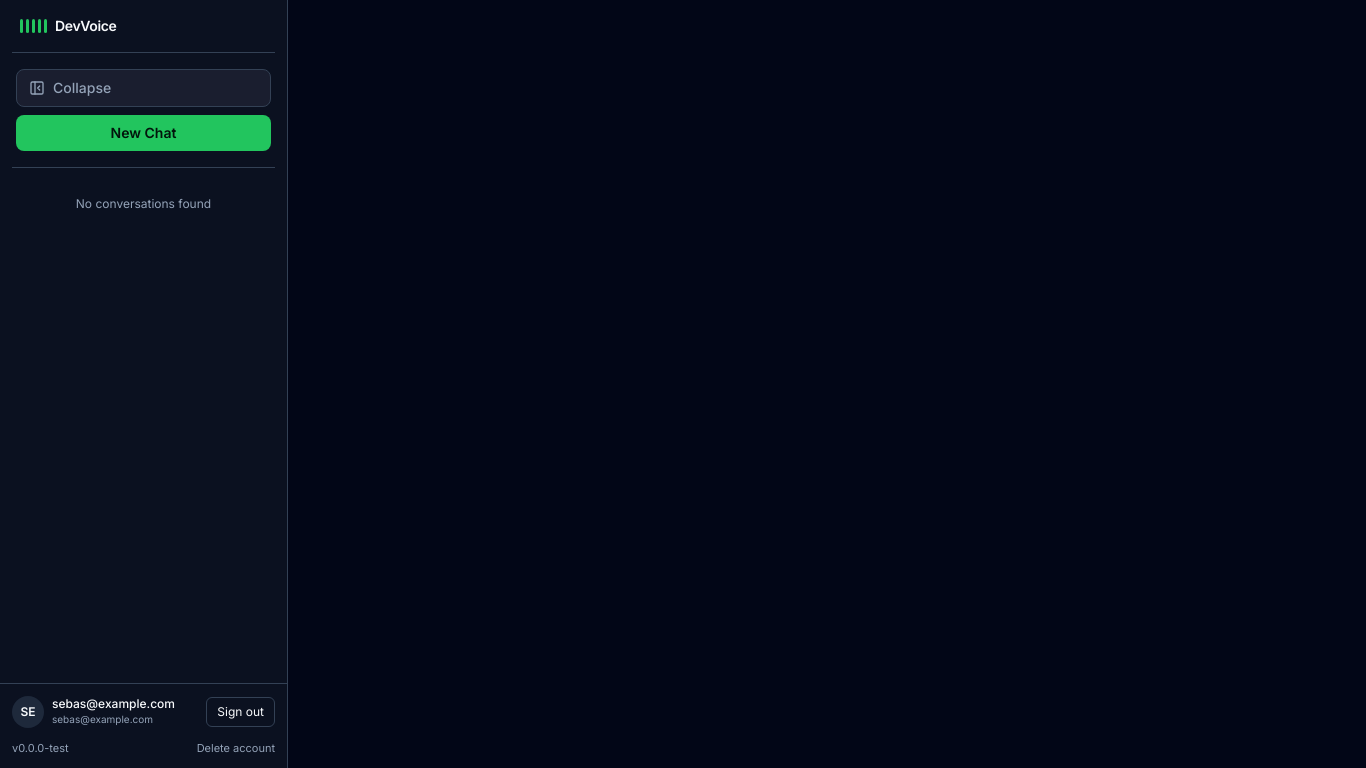
ConversationSidebar delete account › asks for explicit confirmation before deleting
The image size is (1366, 768).
Step 1. Click the button with test id "delete-account" → (236,748), box x1=197 y1=740 x2=275 y2=756
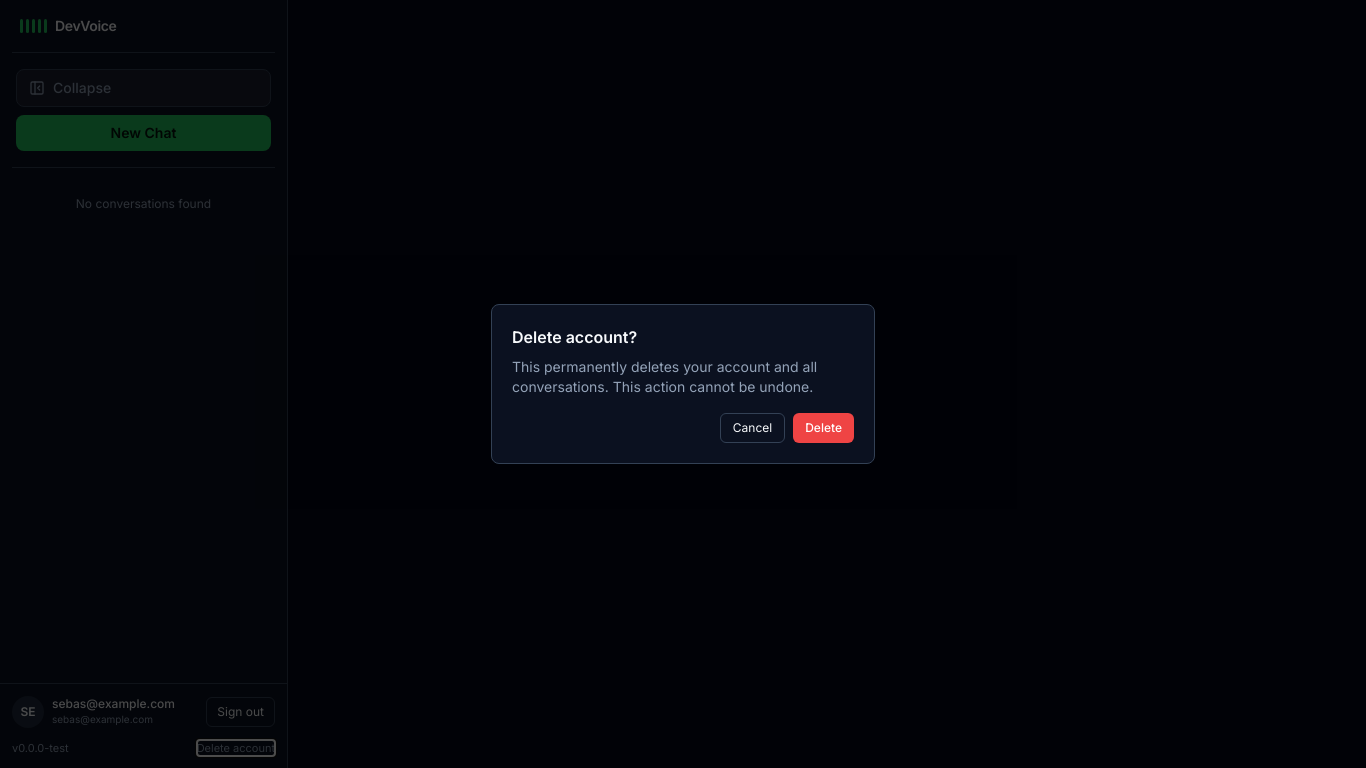
Expected: the text "permanently deletes your account" is shown, x1=512 y1=358 x2=817 y2=395
